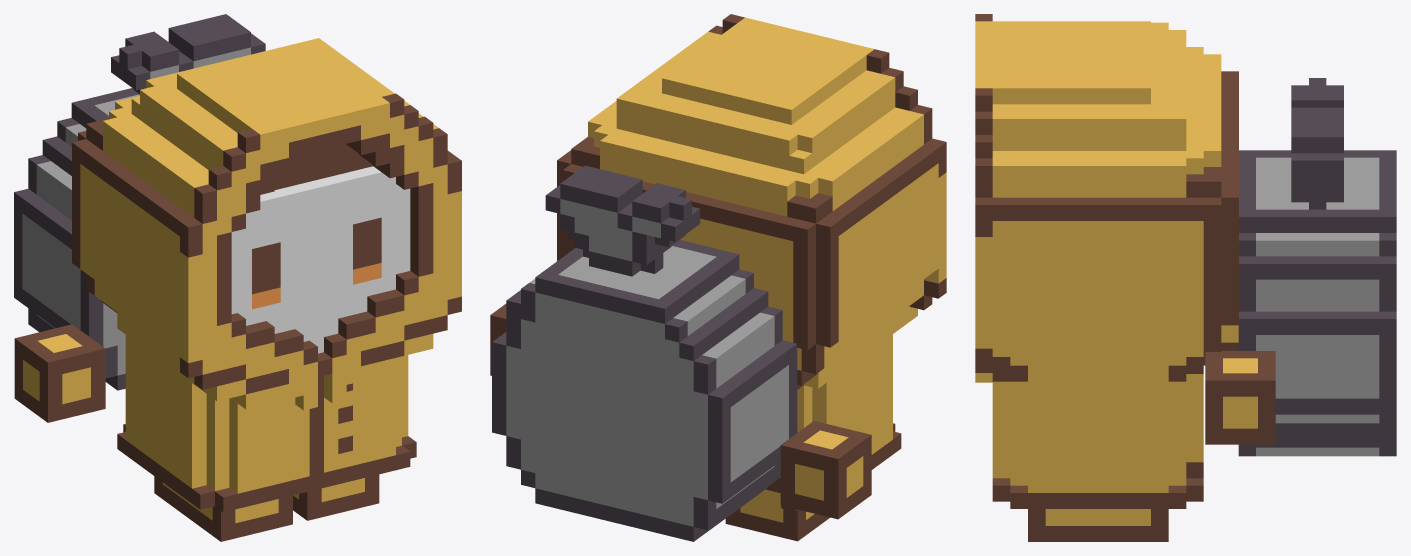
Rendered from p1TrashHold1.gltf.
3 renders of one model, left to right at view 1: azimuth 30°, elevation 25°; view 2: azimuth 150°, elevation 25°; view 3: azimuth 270°, elevation 25°, orthographic. The views are drawn at different scales.
Visible parts, largest first — view 1: Yup2Zup.001; view 2: Yup2Zup.001; view 3: Yup2Zup.001.
Part boxes in pixels (x1,y1,x2,y2): Yup2Zup.001: [14, 14, 461, 541]; Yup2Zup.001: [490, 14, 946, 541]; Yup2Zup.001: [975, 14, 1396, 541].
Bounding box in the file's own units: 2.41 × 2.8 × 2.4.
4 materials, 4 textured.
